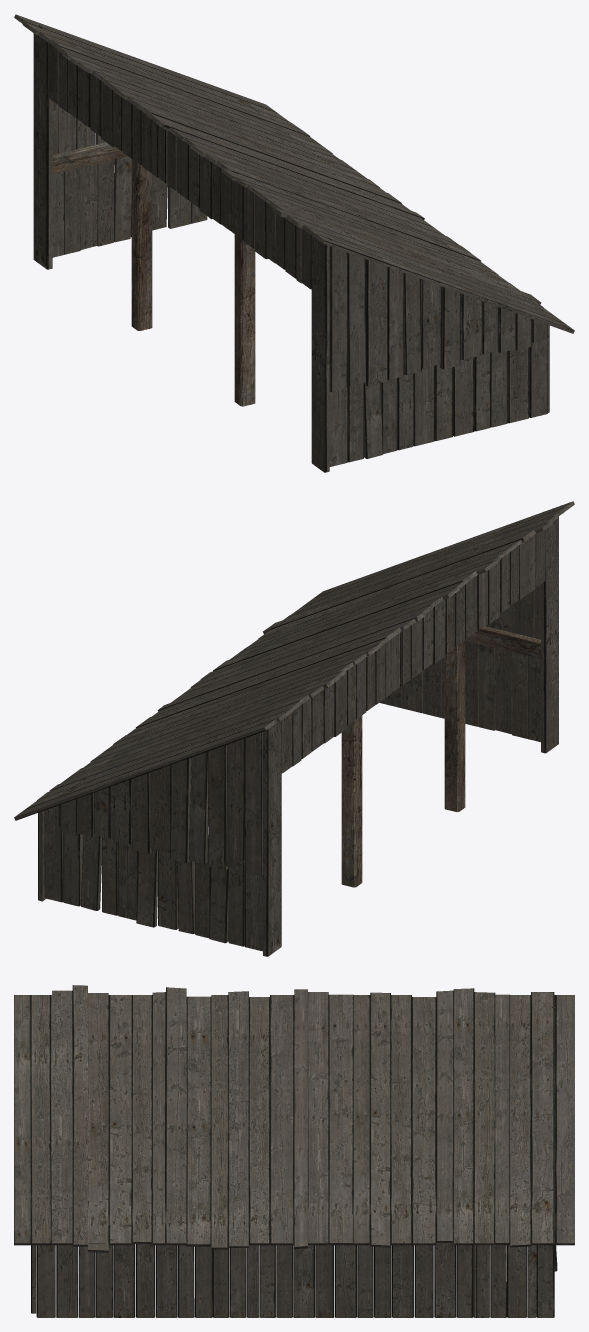
Rendered from Coast_Village_HayCanopy.FBX.
The picture shows the model from 3 angles, top to bottom: view 1: azimuth 30°, elevation 25°; view 2: azimuth 150°, elevation 25°; view 3: azimuth 270°, elevation 25°; orthographic projection. The views are drawn at different scales.
Visible parts, largest first — view 1: Walls, Roof, woods; view 2: Walls, Roof, woods; view 3: Roof, Walls.
Boxes of the visible parts, x1,y1,x2,y2 form: Walls: (33,25,549,472); Roof: (14,14,574,333); woods: (52,142,548,406); Walls: (38,510,558,956); Roof: (14,501,574,820); woods: (44,626,540,887); Roof: (14,985,574,1252); Walls: (25,1006,557,1317).
Bounding box in the file's own units: 8.64 × 7.5 × 17.12.
Materials: 2 (2 with a texture image).
